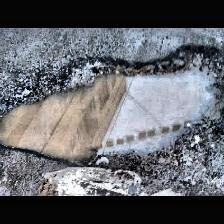pothole: (0, 43, 222, 168)
